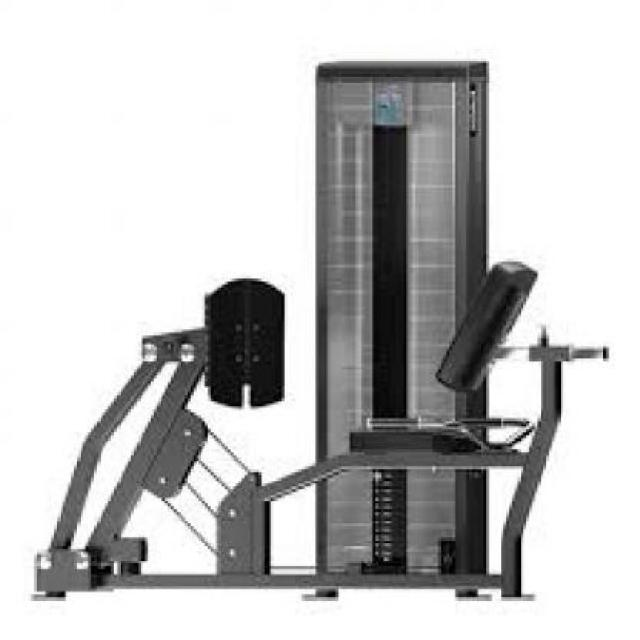leg press: (14, 46, 614, 609)
